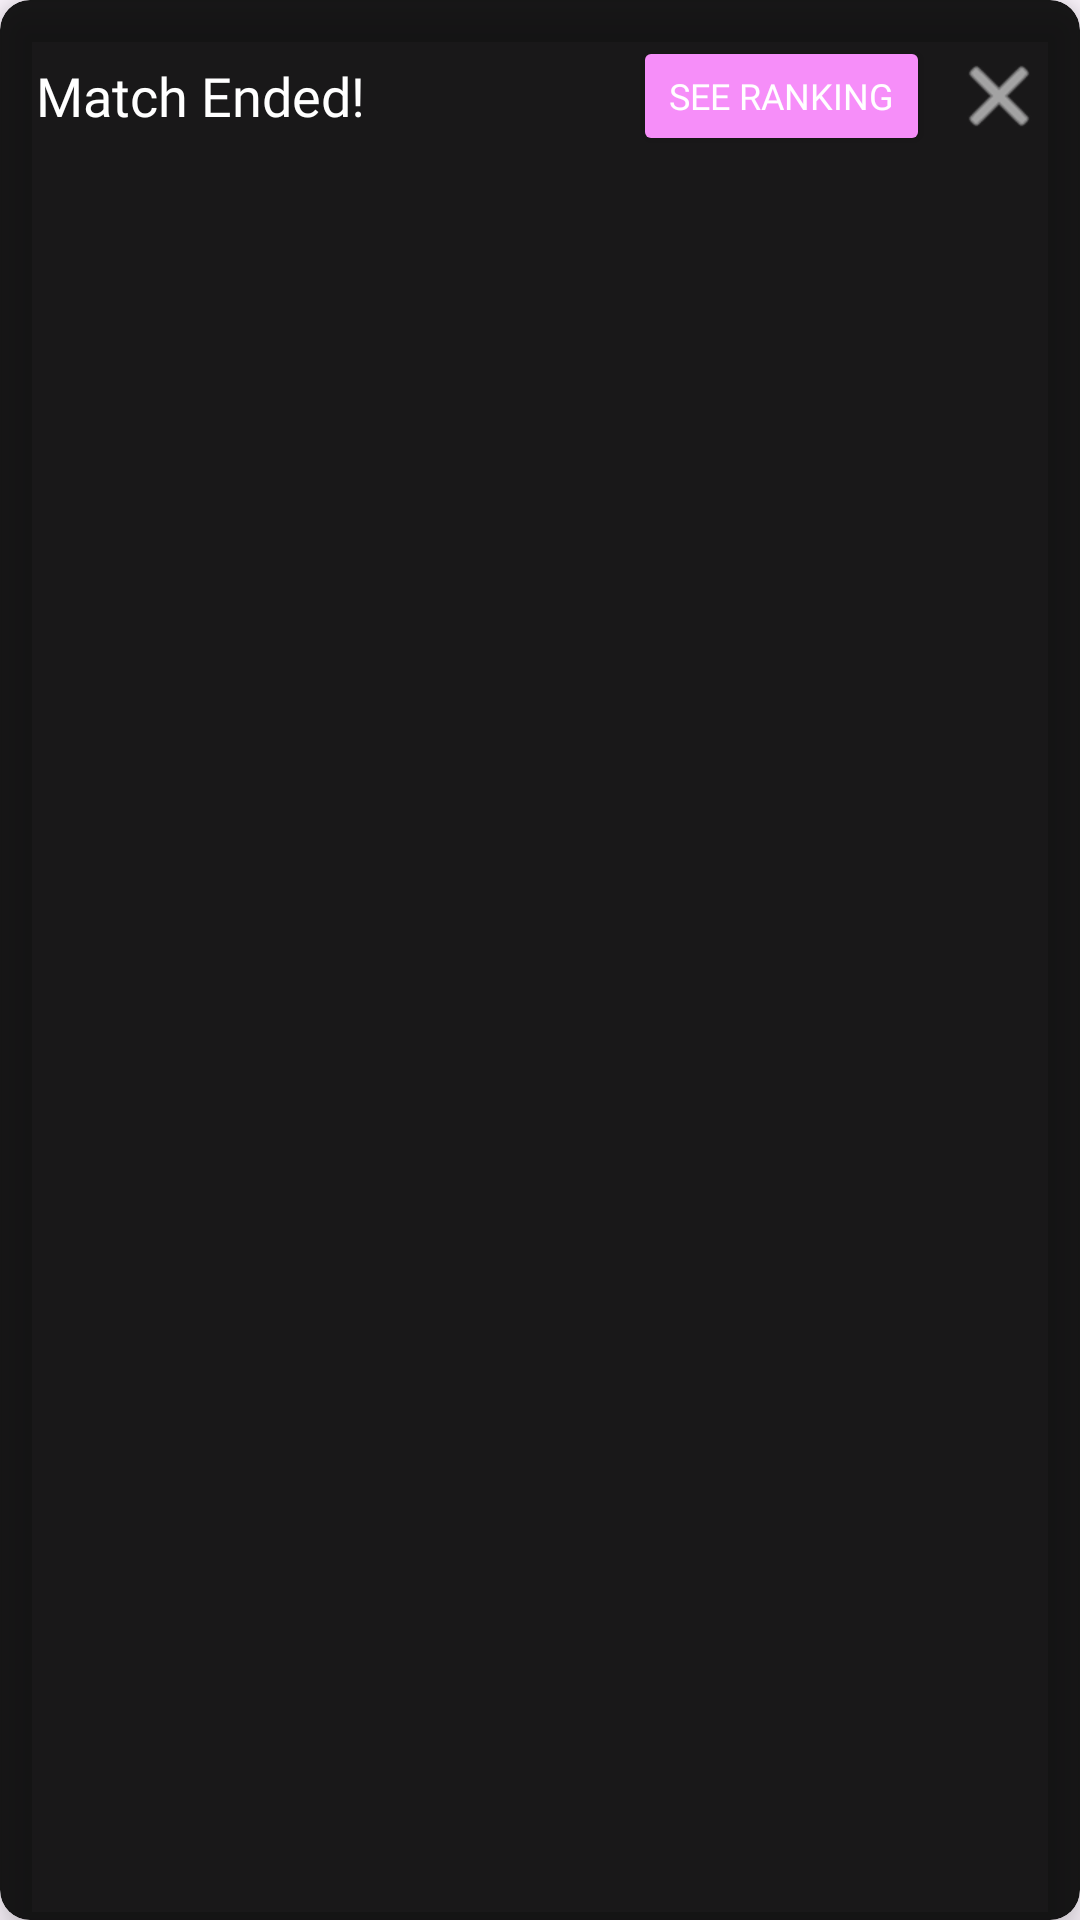

Screen size 1080px×1920px. Icon name, then its box in pixels as (x1, y1, x2, y2):
close clear cancel: (969, 66, 1029, 126)
